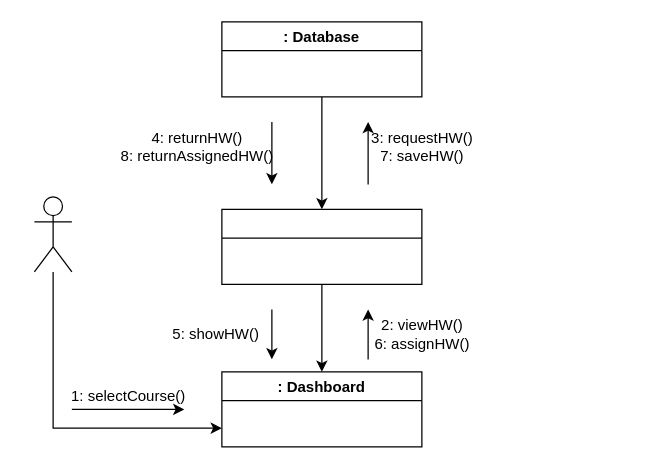
This 666x469 diagram has some shape labels left out. Here are the shapes that lost their labels. From the top down, the centre of each, then its label:
At point 52,234: "Instructor".
At point 321,246: ": Server".
